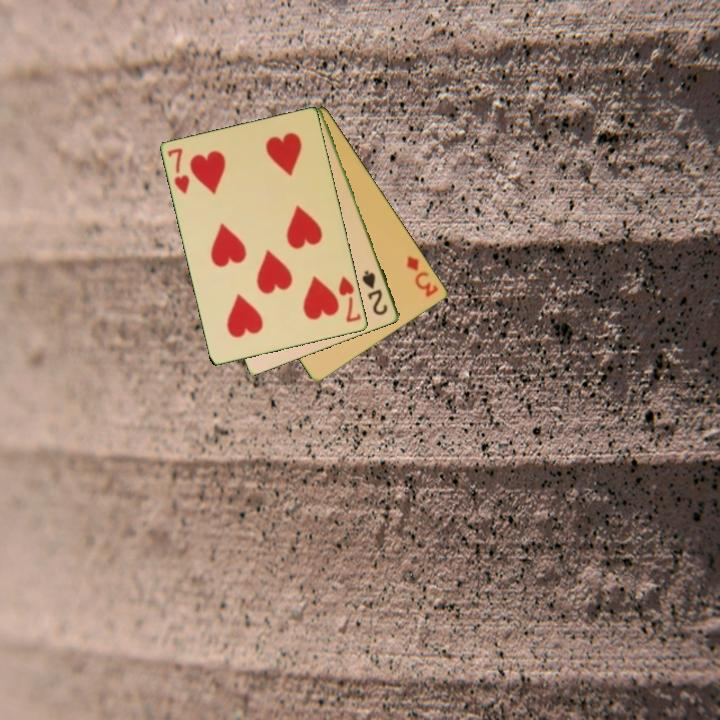2s: (359, 267, 391, 318)
3d: (403, 252, 441, 300)
7h: (335, 272, 364, 325), (164, 145, 193, 197)
